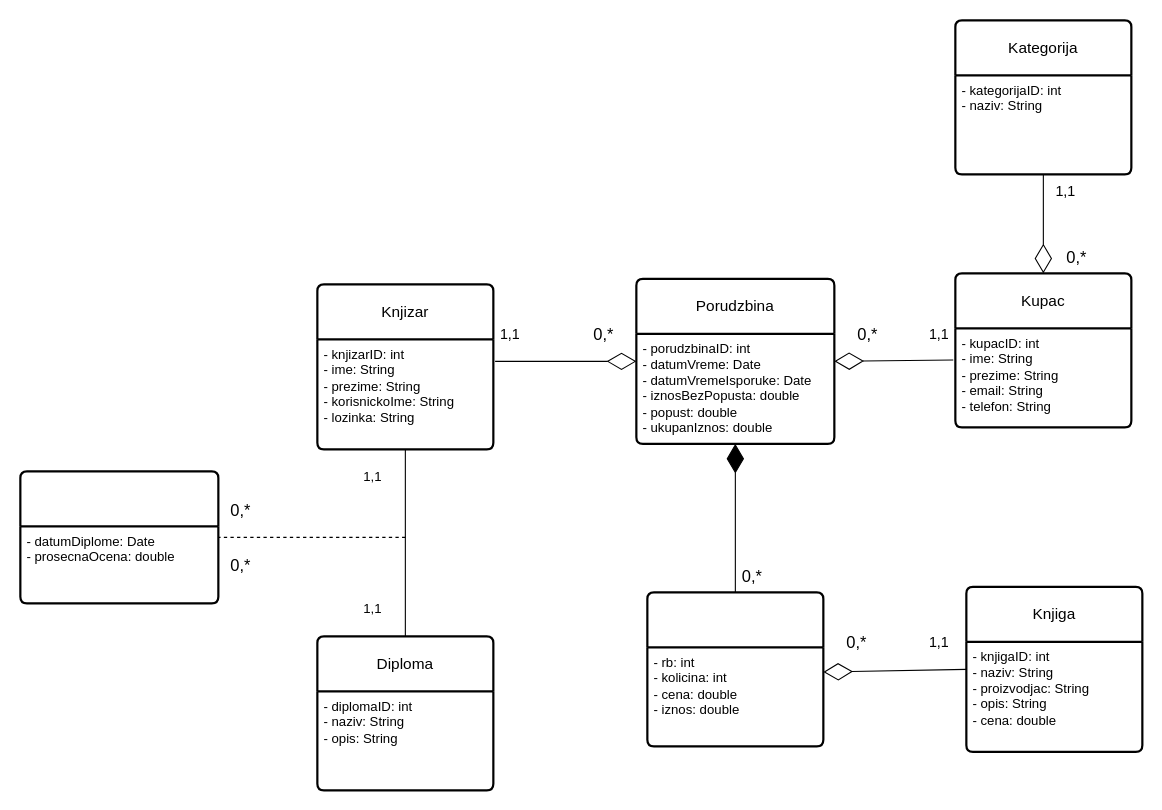
The diagram is 1162 pixels wide and 810 high, and some of its shapes have lost their labels. Each missing label, with the box of its shape:
KnjizarDip: (19, 470, 219, 604)
StavkaPorudzbine: (646, 591, 824, 747)
